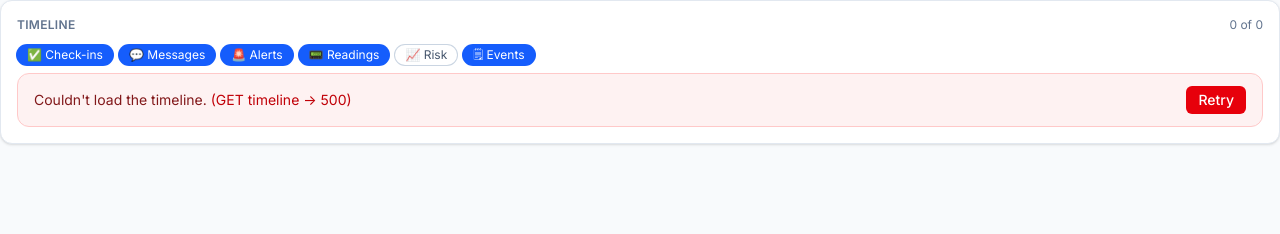
TimelineCard › a failed load shows an error with Retry
Expected: the message shows "Couldn't load the timeline", [34,91,207,108]
Click the button "Retry".
click(1216, 100)  # box [1186,86,1246,114]
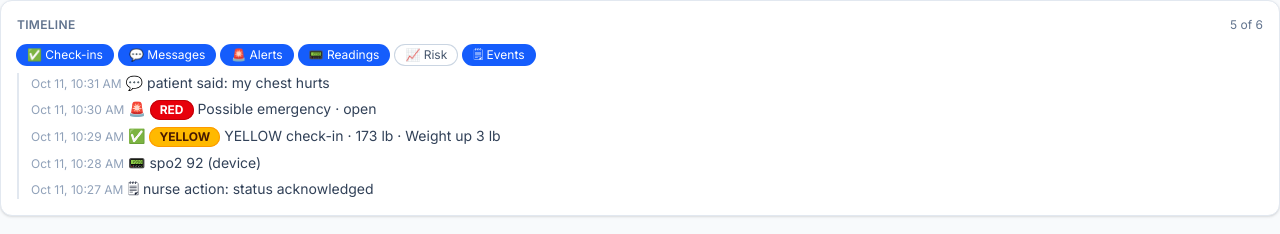
Expected: the text "patient said: my chest hurts" is shown, [147,74,330,91]
